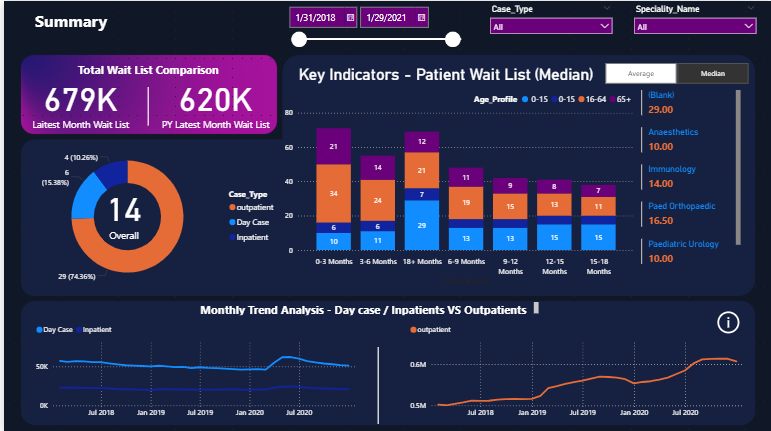

The page's visual inventory and layout, read from the dashboard file:
{"tool":"powerbi","page":{"name":"summary","canvas":[1280,720],"ordinal":0},"visuals":[{"type":"card","fields":{"Values":["All_Data.Laitest Month Wait List"]},"box":[32,112,192,112],"z":0},{"type":"card","fields":{"Values":["All_Data.PY Latest Month Wait List"]},"box":[256,112,192,112],"z":1000},{"type":"slicer","fields":{"Values":["Calculation Method.Calc Method"]},"box":[976,96,288,48],"z":2000},{"type":"donutChart","fields":{"Category":["All_Data.Case_Type"],"Y":["All_Data.Avg/Med Wait List"]},"box":[32,224,432,272],"z":3000},{"type":"columnChart","fields":{"Y":["All_Data.Avg/Med Wait List"],"Category":["All_Data.Time_Bands"],"Series":["All_Data.Age_Profile"]},"box":[464,144,592,336],"z":4000},{"type":"multiRowCard","fields":{"Values":["All_Data.Specialty_Name","All_Data.Avg/Med Wait List"]},"box":[1056,144,176,320],"z":5000},{"type":"card","fields":{"Values":["All_Data.No data"]},"box":[48,528,464,176],"z":6000},{"type":"lineChart","fields":{"Category":["All_Data.Archive_Date"],"Y":["Sum(All_Data.Total)"],"Series":["All_Data.Case_Type"]},"box":[48,528,544,176],"z":7000},{"type":"card","fields":{"Values":["All_Data.No data2"]},"box":[768,560,320,112],"z":8000},{"type":"lineChart","fields":{"Category":["All_Data.Archive_Date"],"Y":["Sum(All_Data.Total)"],"Series":["All_Data.Case_Type"]},"box":[672,528,576,176],"z":9000},{"type":"slicer","fields":{"Values":["All_Data.Archive_Date"]},"box":[464,0,320,96],"z":10000},{"type":"slicer","fields":{"Values":["All_Data.Case_Type"]},"box":[800,0,224,80],"z":11000},{"type":"slicer","fields":{"Values":["All_Data.Speciality_Name"]},"box":[1040,0,224,80],"z":12000},{"type":"textbox","box":[32,0,176,80],"z":13000},{"type":"card","fields":{"Values":["All_Data.Avg/Med Wait List"]},"box":[160,272,80,160],"z":14000},{"type":"shape","box":[208,144,64,64],"z":15000},{"type":"textbox","box":[96,96,288,48],"z":16000},{"type":"card","fields":{"Values":["All_Data.Dynamic title"]},"box":[368,48,736,144],"z":17000},{"type":"textbox","box":[320,496,576,32],"z":18000},{"type":"actionButton","box":[1184,512,48,48],"z":19000},{"type":"shape","box":[592,576,64,128],"z":20000}]}

Visuals, with their boxes in screenshot pixels (x1, y1, x2, y2), scaled from the page's 1280x720 canvas onto the 771x431 screenshot:
card - All_Data.Laitest Month Wait List: 19/67/135/134
card - All_Data.PY Latest Month Wait List: 154/67/270/134
slicer - Calculation Method.Calc Method: 588/57/761/86
donutChart - All_Data.Case_Type x All_Data.Avg/Med Wait List: 19/134/279/297
columnChart - All_Data.Avg/Med Wait List x All_Data.Time_Bands: 279/86/636/287
multiRowCard - All_Data.Specialty_Name x All_Data.Avg/Med Wait List: 636/86/742/278
card - All_Data.No data: 29/316/308/421
lineChart - All_Data.Archive_Date x Sum(All_Data.Total): 29/316/357/421
card - All_Data.No data2: 463/335/655/402
lineChart - All_Data.Archive_Date x Sum(All_Data.Total): 405/316/752/421
slicer - All_Data.Archive_Date: 279/0/472/57
slicer - All_Data.Case_Type: 482/0/617/48
slicer - All_Data.Speciality_Name: 626/0/761/48
textbox: 19/0/125/48
card - All_Data.Avg/Med Wait List: 96/163/145/259
shape: 125/86/164/125
textbox: 58/57/231/86
card - All_Data.Dynamic title: 222/29/665/115
textbox: 193/297/540/316
actionButton: 713/306/742/335
shape: 357/345/395/421
